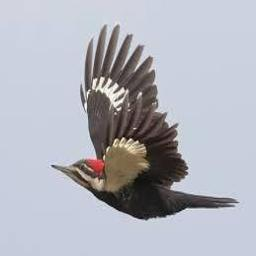Woodpecker: (51, 24, 239, 219)
